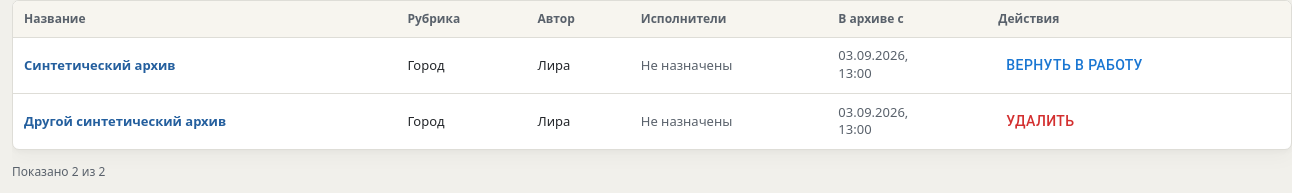
Test: ArchivePage › preserves a live title-link focus chosen while a restore command is pending
The image size is (1292, 193).
What coordinates should you click on to do the following:
click the button with aria-label "Вернуть в работу: Синтетический архив"
I would click on:
 (1075, 65)
Its box is x1=998 y1=47 x2=1151 y2=83.
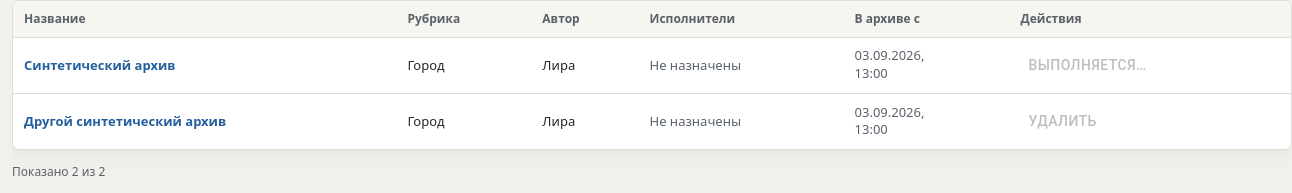
What coordinates should you click on to do the following:
click the link with aria-label "Открыть сценарий сюжета Другой синтетический архив"
I would click on:
 (125, 121)
Its box is x1=24 y1=112 x2=226 y2=130.
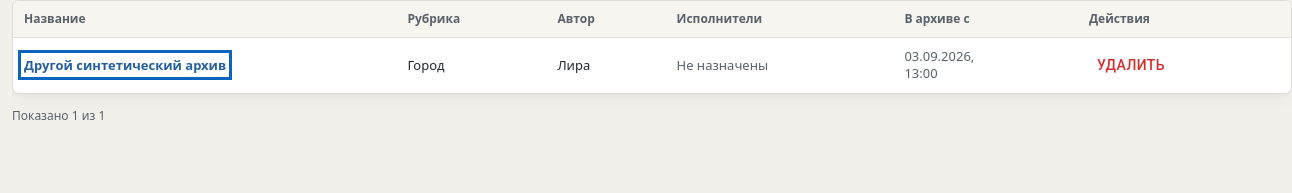
Expected: the text "Показано 1 из 1" is shown, x1=12 y1=107 x2=105 y2=124
